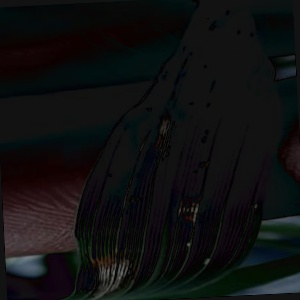Brown_Spot: (133, 77, 209, 169), (223, 59, 283, 124), (80, 248, 149, 300), (161, 184, 211, 233), (108, 173, 150, 217)
